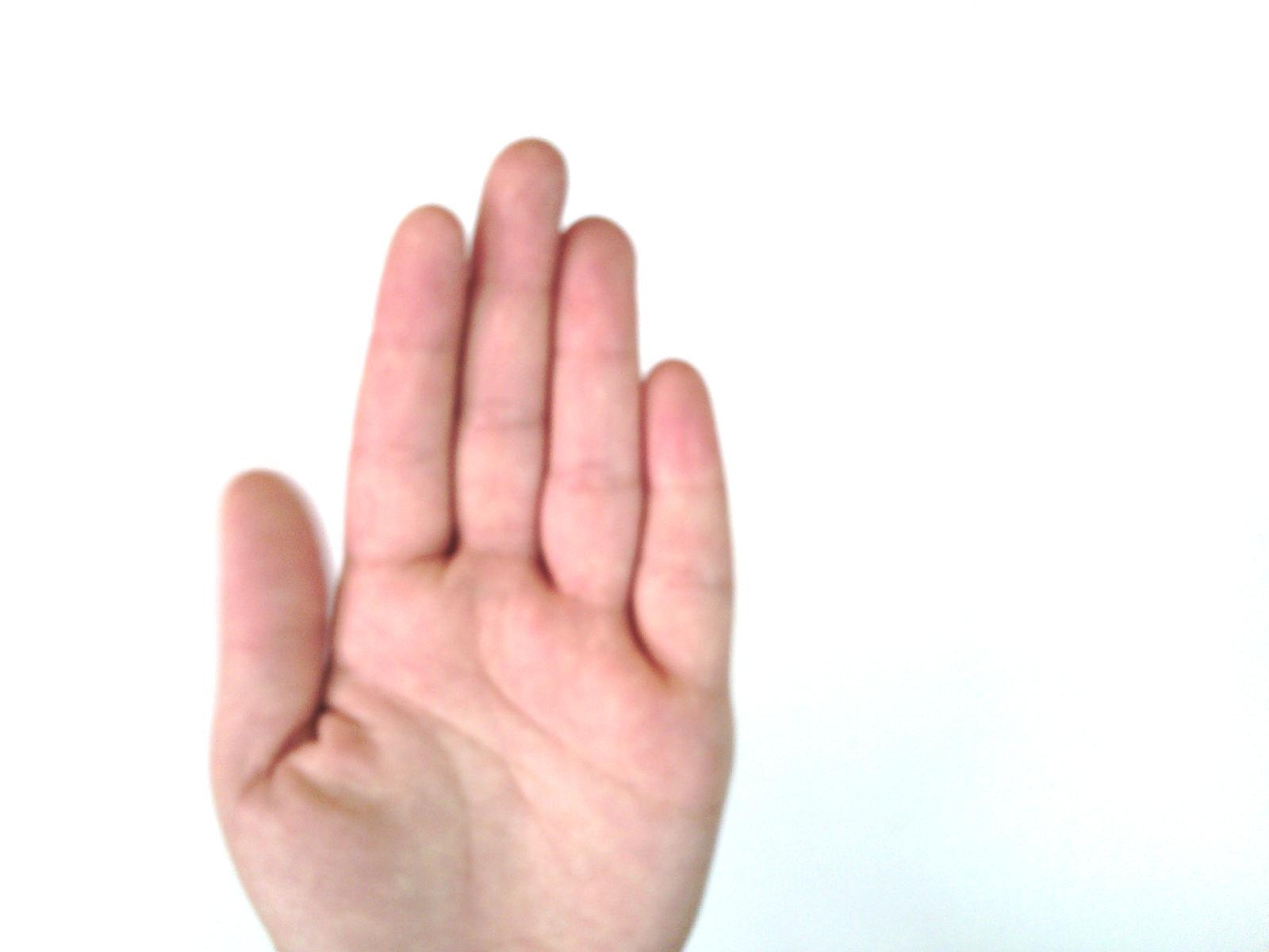open_palm: (206, 136, 742, 951)
